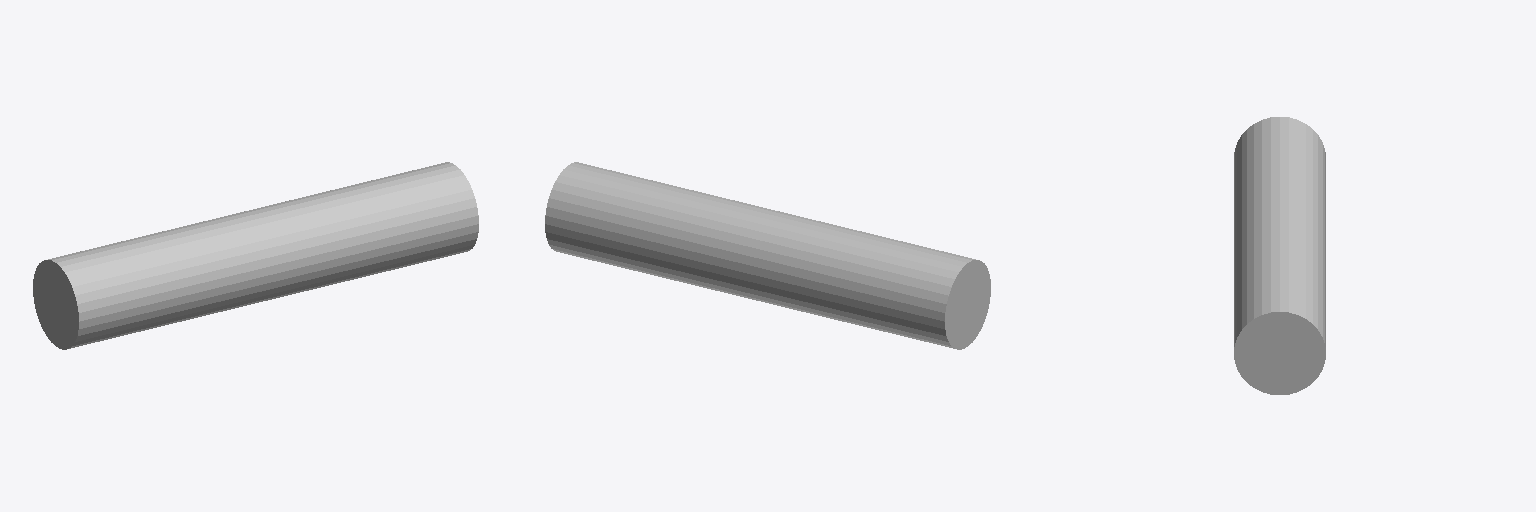
File: uploads_files_3707470_Log.obj
The picture shows the model from 3 angles: view 1: azimuth 30°, elevation 25°; view 2: azimuth 150°, elevation 25°; view 3: azimuth 270°, elevation 25°; orthographic projection.
Parts seen in each view (by area): view 1: Cylinder.001, Cylinder; view 2: Cylinder.001, Cylinder; view 3: Cylinder.001, Cylinder.
Boxes of the visible parts, <box> form: Cylinder.001: <box>48,162,478,348</box>; Cylinder: <box>33,260,78,349</box>; Cylinder.001: <box>545,162,975,348</box>; Cylinder: <box>945,260,990,349</box>; Cylinder.001: <box>1234,117,1325,346</box>; Cylinder: <box>1234,312,1325,394</box>.
Bounding box in the file's own units: 1 × 0.2 × 0.2.